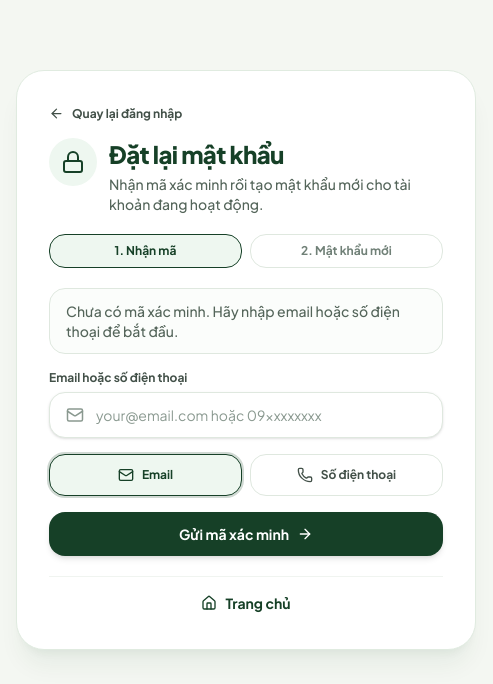
Test case: ForgotPasswordPage › maps expired or invalid reset codes to a user-facing error
Type "camper@ctms.local" into the field labelled "Email hoặc số điện thoại" at (261, 415), box x1=96 y1=405 x2=426 y2=425
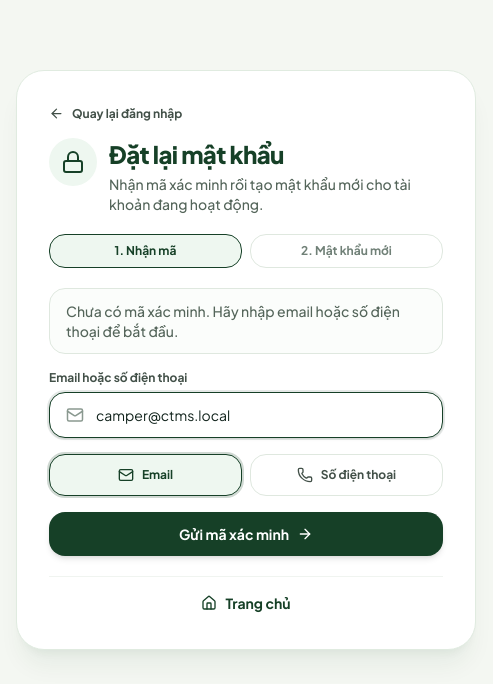
Click the button "Gửi mã xác minh" at (246, 534), box x1=49 y1=512 x2=443 y2=556
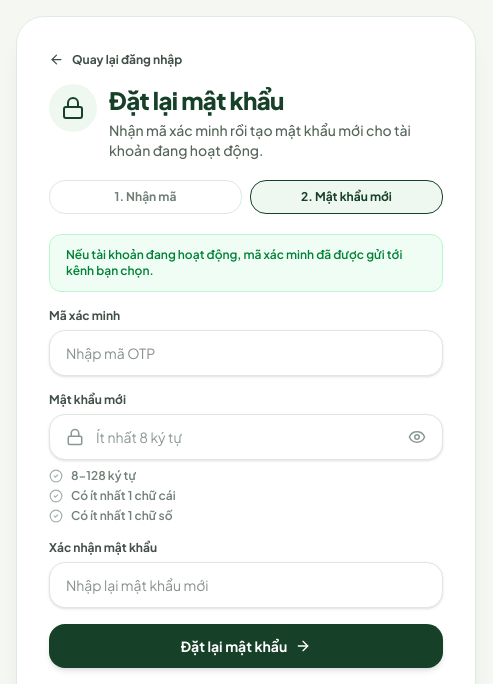
Now the text "Nếu tài khoản đang hoạt động" is shown, box x1=66 y1=246 x2=402 y2=278
Type "123456" into the field labelled "Mã xác minh" at (246, 352), box x1=49 y1=330 x2=443 y2=376
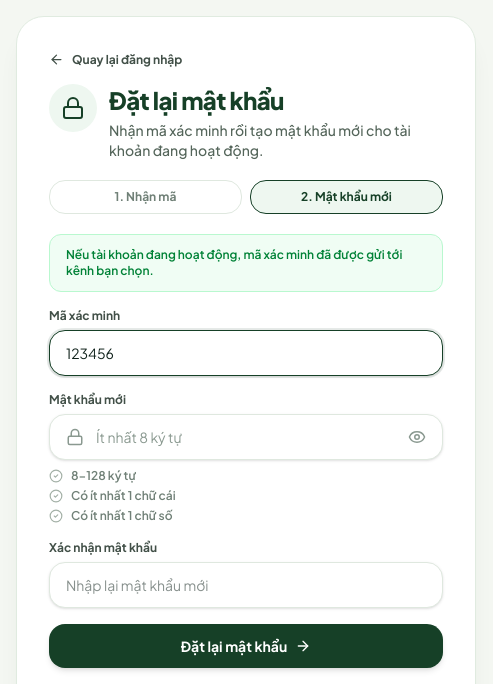
Type "NewPass123" into the password field labelled "Mật khẩu mới" at (246, 436), box x1=96 y1=426 x2=396 y2=446
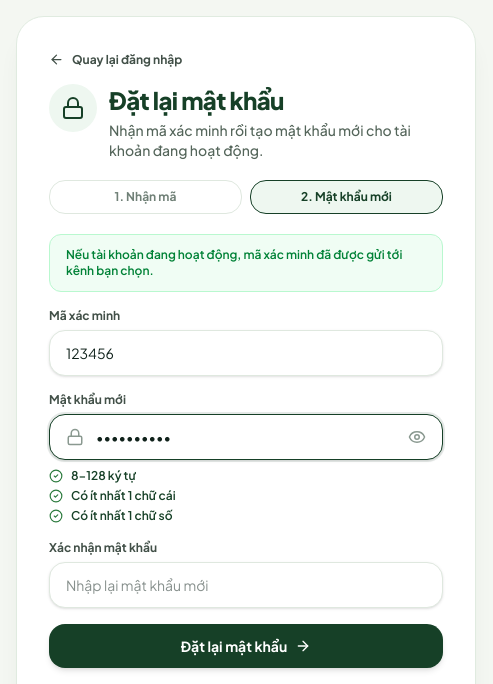
Type "NewPass123" into the password field labelled "Xác nhận mật khẩu" at (246, 584), box x1=49 y1=562 x2=443 y2=608
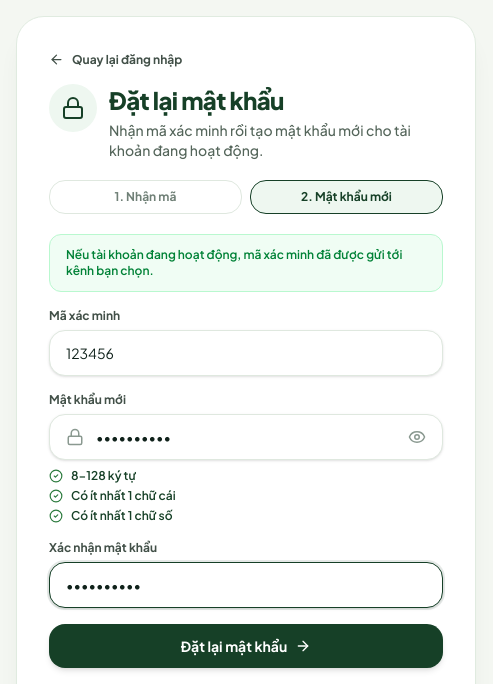
Click the button "Đặt lại mật khẩu" at (246, 646), box x1=49 y1=624 x2=443 y2=668
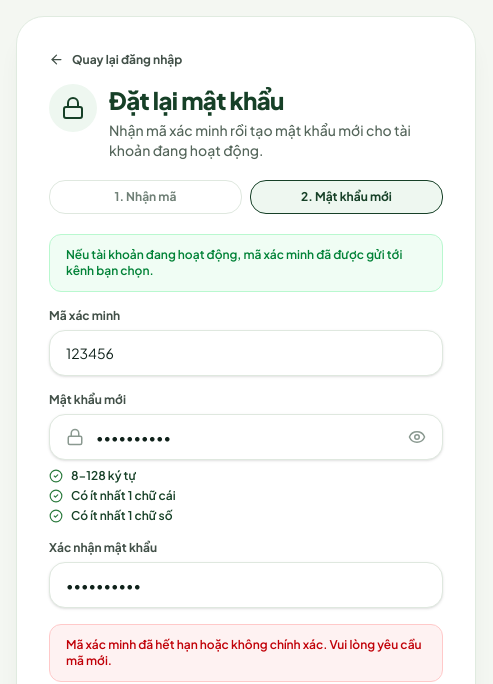
Now the text "Mã xác minh đã hết hạn hoặc không chính xác. Vui lòng yêu cầu mã mới." is shown, box x1=66 y1=636 x2=426 y2=668
